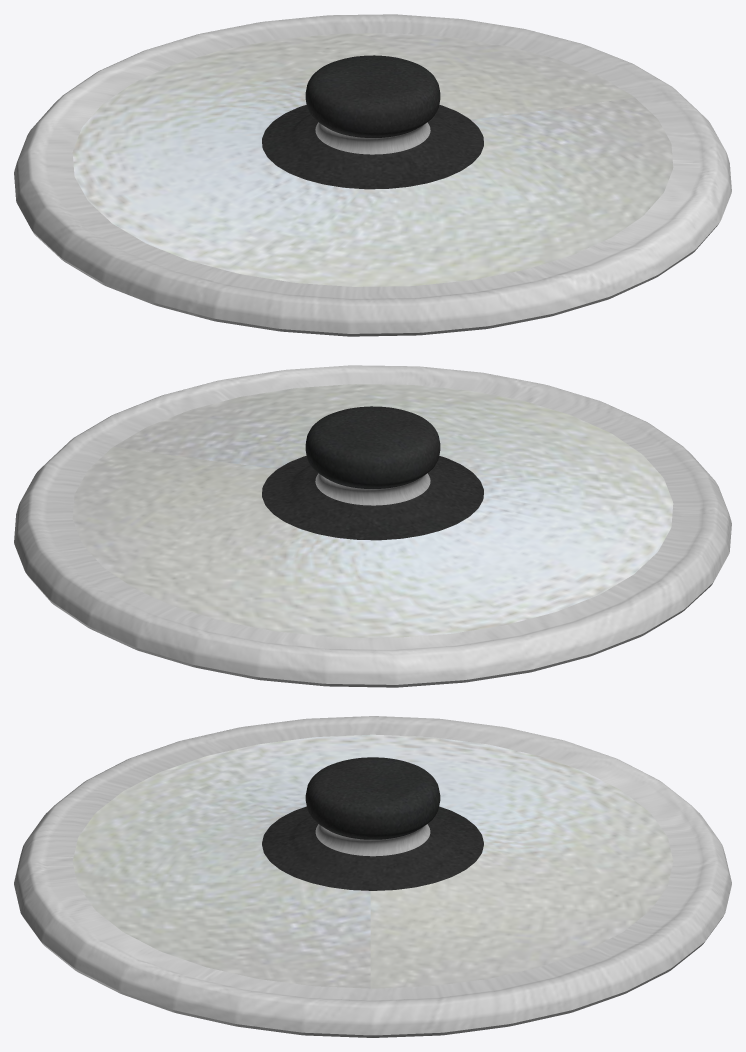
Rendered from PotLid.fbx.
3 renders of one model, top to bottom at view 1: azimuth 30°, elevation 25°; view 2: azimuth 150°, elevation 25°; view 3: azimuth 270°, elevation 25°, orthographic.
Visible parts, largest first — view 1: PotLid; view 2: PotLid; view 3: PotLid.
Boxes of the visible parts, bbox=[...] form: PotLid: bbox=[14, 14, 731, 336]; PotLid: bbox=[14, 365, 731, 687]; PotLid: bbox=[14, 716, 731, 1037].
Size of the model in its own units: 31.23 by 5.65 by 31.23.
1 material, 1 textured.
